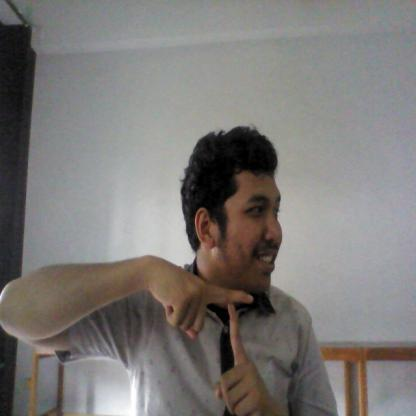T: (147, 255, 266, 415)
